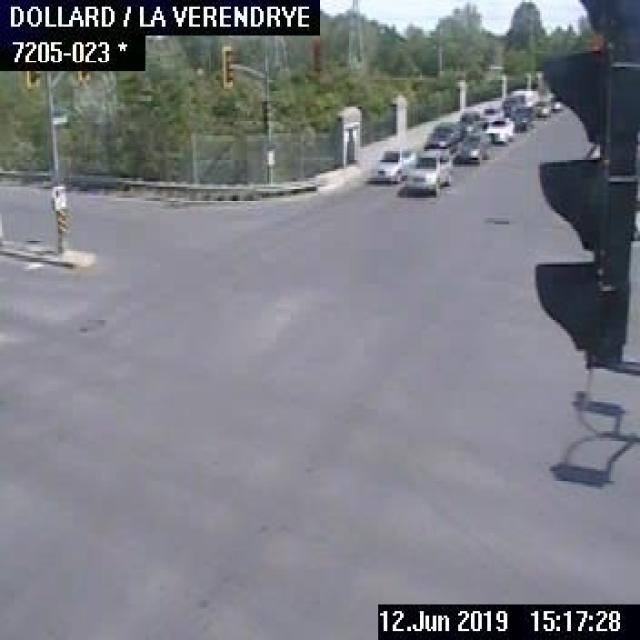vehicle: (406, 152, 452, 196), (371, 144, 412, 183), (422, 118, 461, 152), (454, 130, 488, 163), (484, 113, 514, 145), (512, 104, 532, 132), (456, 108, 480, 130), (478, 101, 503, 122), (531, 95, 551, 118)
